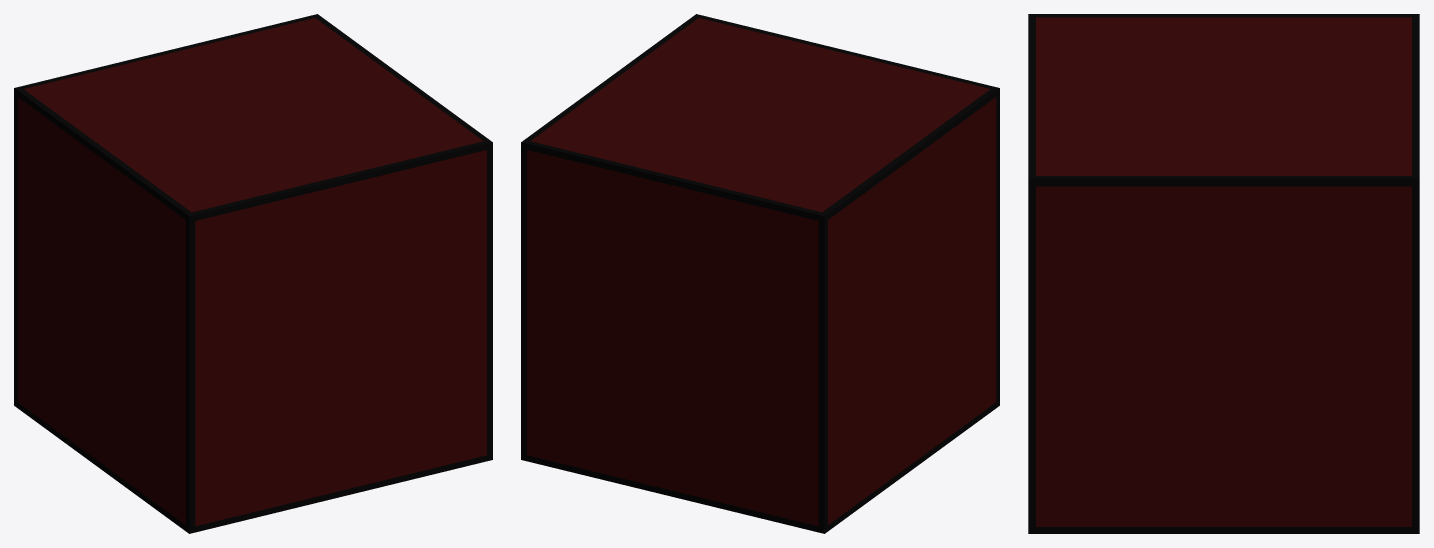
File: testCube_RED_DARK.glb
3 renders of one model, left to right at view 1: azimuth 30°, elevation 25°; view 2: azimuth 150°, elevation 25°; view 3: azimuth 270°, elevation 25°, orthographic. The views are drawn at different scales.
Parts seen in each view (by area): view 1: CubeRED_DARK, Outine; view 2: CubeRED_DARK, Outine; view 3: CubeRED_DARK, Outine.
Boxes of the visible parts, left/top/right/bottom form: CubeRED_DARK: left=17, top=18, right=486, bottom=526; Outine: left=14, top=14, right=492, bottom=533; CubeRED_DARK: left=527, top=18, right=996, bottom=526; Outine: left=521, top=14, right=999, bottom=533; CubeRED_DARK: left=1036, top=17, right=1411, bottom=526; Outine: left=1028, top=14, right=1419, bottom=533.
Bounding box in the file's own units: 2.02 × 2.02 × 2.02.
